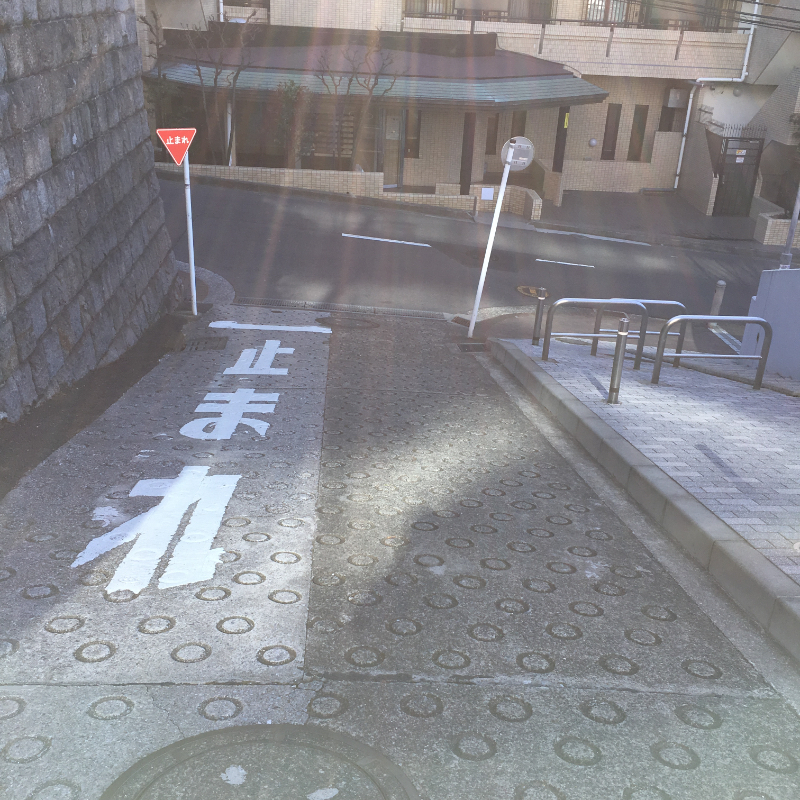STOP: (154, 128, 199, 165)
